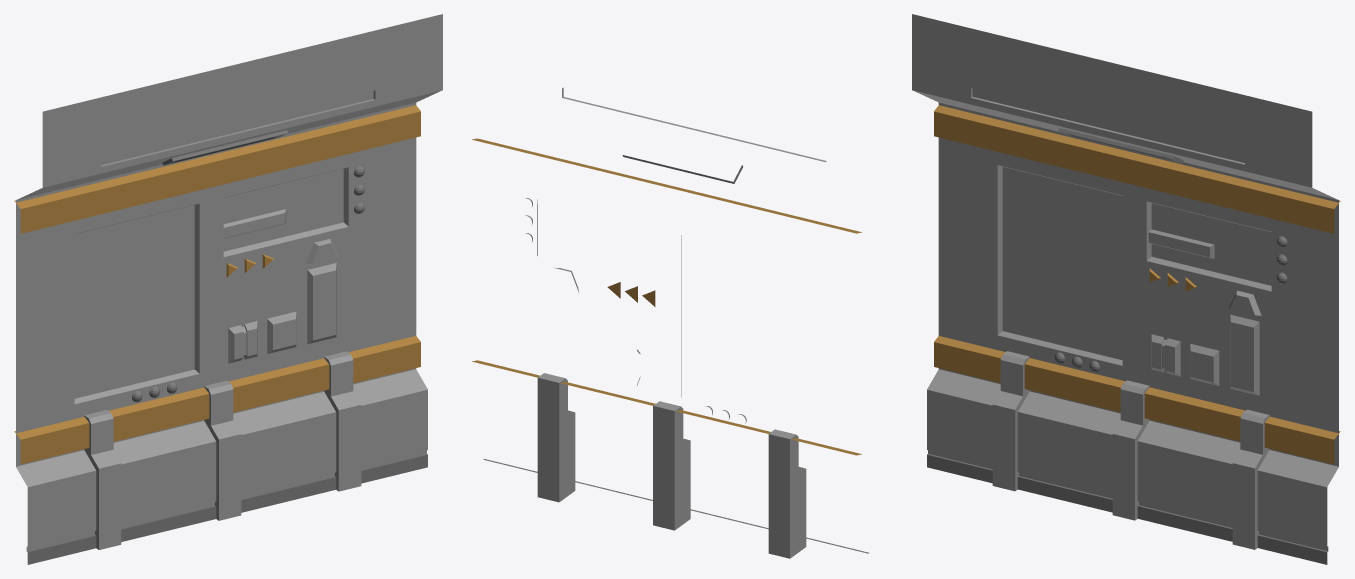
The model's file is quaternius-modular-sci-fi-wall-1.glb.
3 views of the same model, side by side, from view 1: azimuth 30°, elevation 25°; view 2: azimuth 150°, elevation 25°; view 3: azimuth 330°, elevation 25° (orthographic). The views are drawn at different scales.
Parts seen in each view (by area): view 1: Wall_1; view 2: Wall_1; view 3: Wall_1.
Boxes of the visible parts, left/top/right/bottom form: Wall_1: left=14, top=14, right=442, bottom=564; Wall_1: left=472, top=87, right=869, bottom=558; Wall_1: left=912, top=14, right=1340, bottom=564.
Bounding box in the file's own units: 4 × 4.43 × 0.5447.
